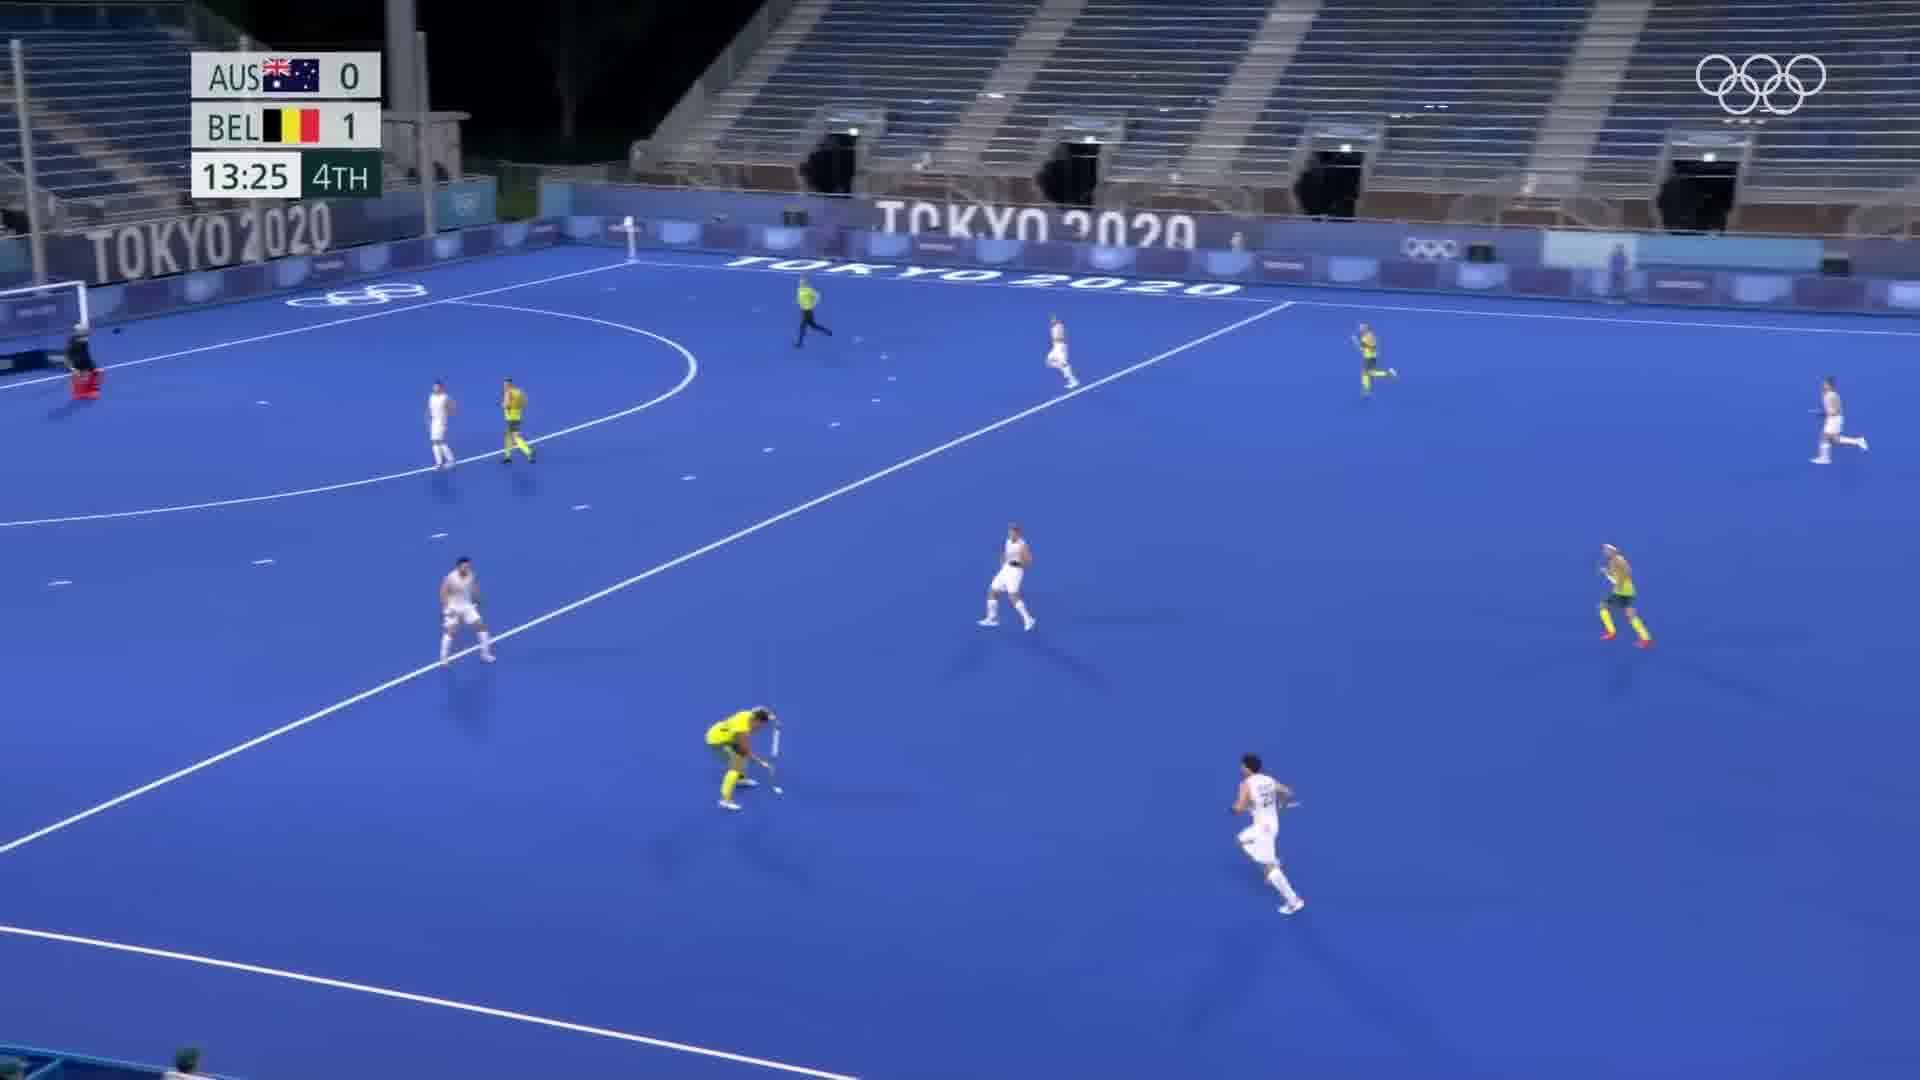ball: (767, 781, 790, 799)
